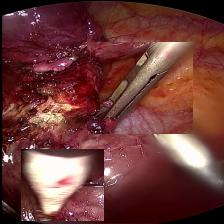Grasper: (86, 42, 192, 134)
Hook: (20, 149, 103, 221)
